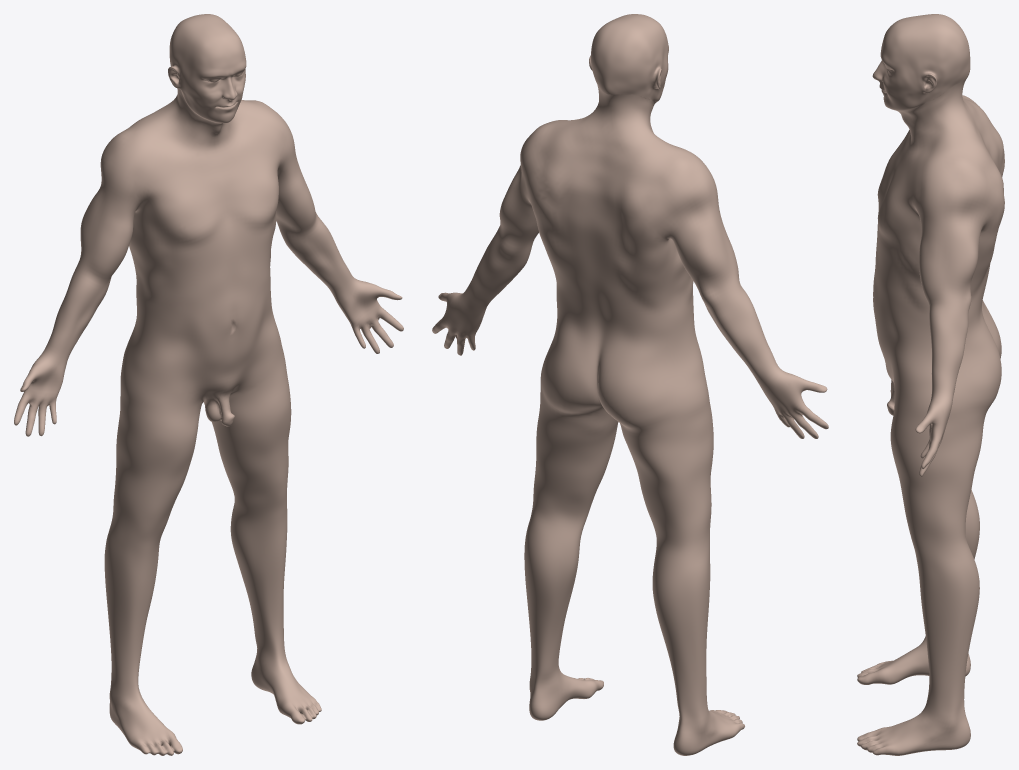
The model's file is VHM_Skin_Med.fbx.
The picture shows the model from 3 angles, left to right: view 1: azimuth 30°, elevation 25°; view 2: azimuth 150°, elevation 25°; view 3: azimuth 270°, elevation 25°; orthographic projection.
Visible parts, largest first — view 1: VHM_Skin_Med; view 2: VHM_Skin_Med; view 3: VHM_Skin_Med.
Part boxes in pixels (x1=…): VHM_Skin_Med: x1=14, y1=14, x2=403, y2=755; VHM_Skin_Med: x1=432, y1=14, x2=828, y2=755; VHM_Skin_Med: x1=857, y1=14, x2=1004, y2=755.
Bounding box in the file's own units: 132 × 225 × 43.3.
